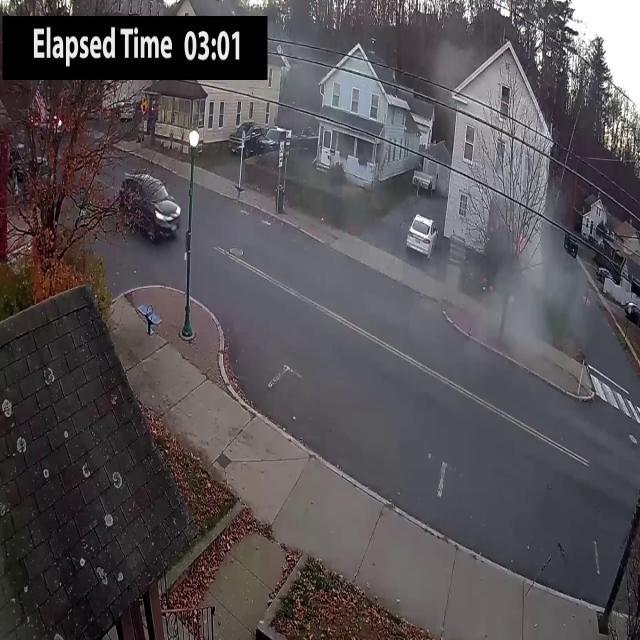Smoke: (470, 198, 610, 392), (262, 0, 331, 140), (421, 27, 472, 112)
